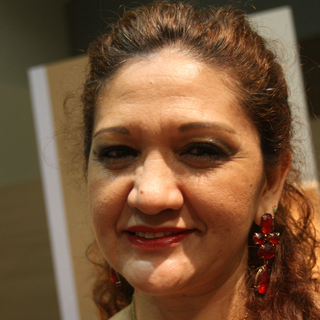eye: (177, 138, 227, 161), (96, 142, 142, 162)
